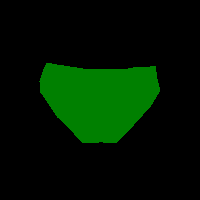mutande: (39, 62, 160, 143)
